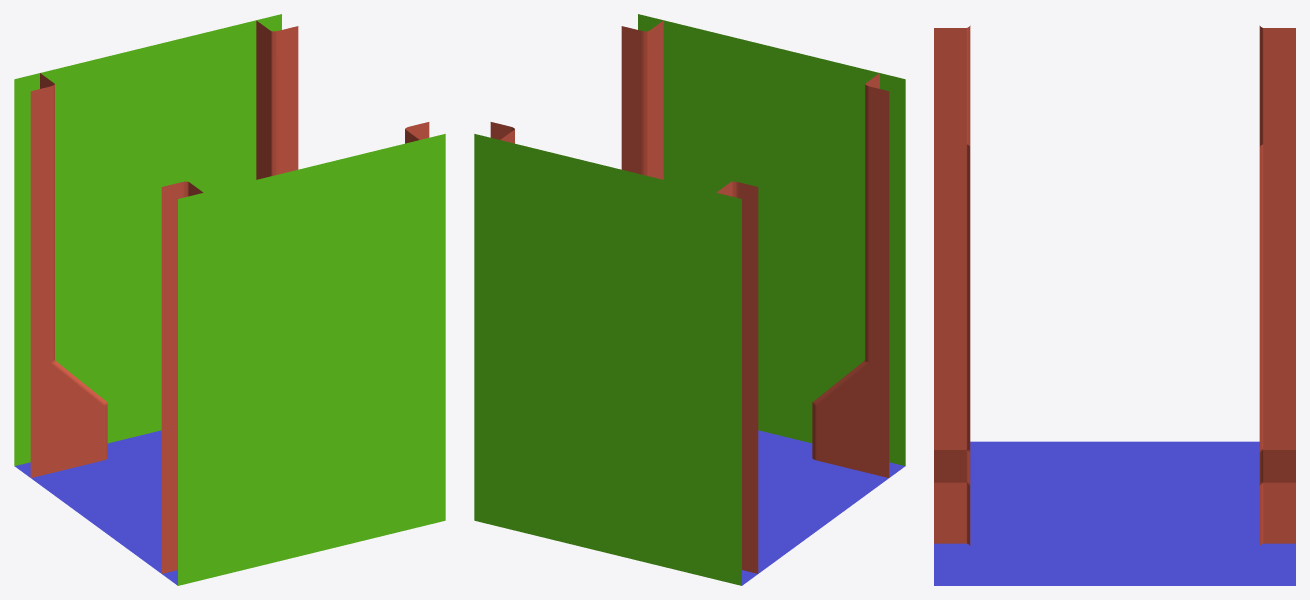
Rendered from L1V2_Small_Passage_P2.fbx.
3 renders of one model, left to right at view 1: azimuth 30°, elevation 25°; view 2: azimuth 150°, elevation 25°; view 3: azimuth 270°, elevation 25°, orthographic. The views are drawn at different scales.
Visible parts, largest first — view 1: Wall.024; view 2: Wall.024; view 3: Wall.024.
Part boxes in pixels (<box>): Wall.024: <box>14,14,445,585</box>; Wall.024: <box>474,14,905,585</box>; Wall.024: <box>934,25,1295,585</box>.
Size of the model in its own units: 506 by 700 by 537.
